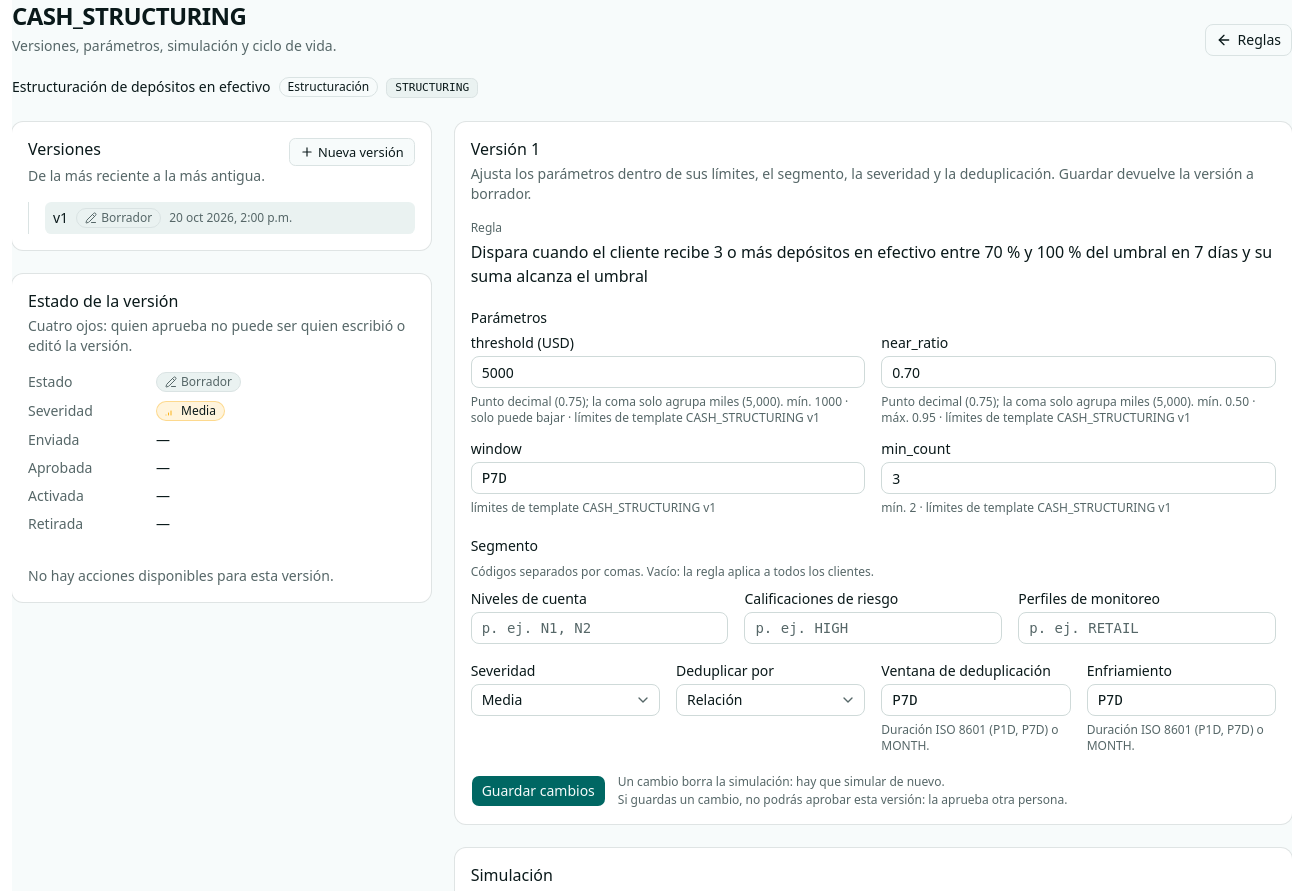
Test: RulePage › a save the server finds unchanged leaves nothing unsaved (Niveles de cuenta typed as "")
Type "n1" into the field labelled "Niveles de cuenta". click: (600, 628)
box: [471, 612, 728, 644]
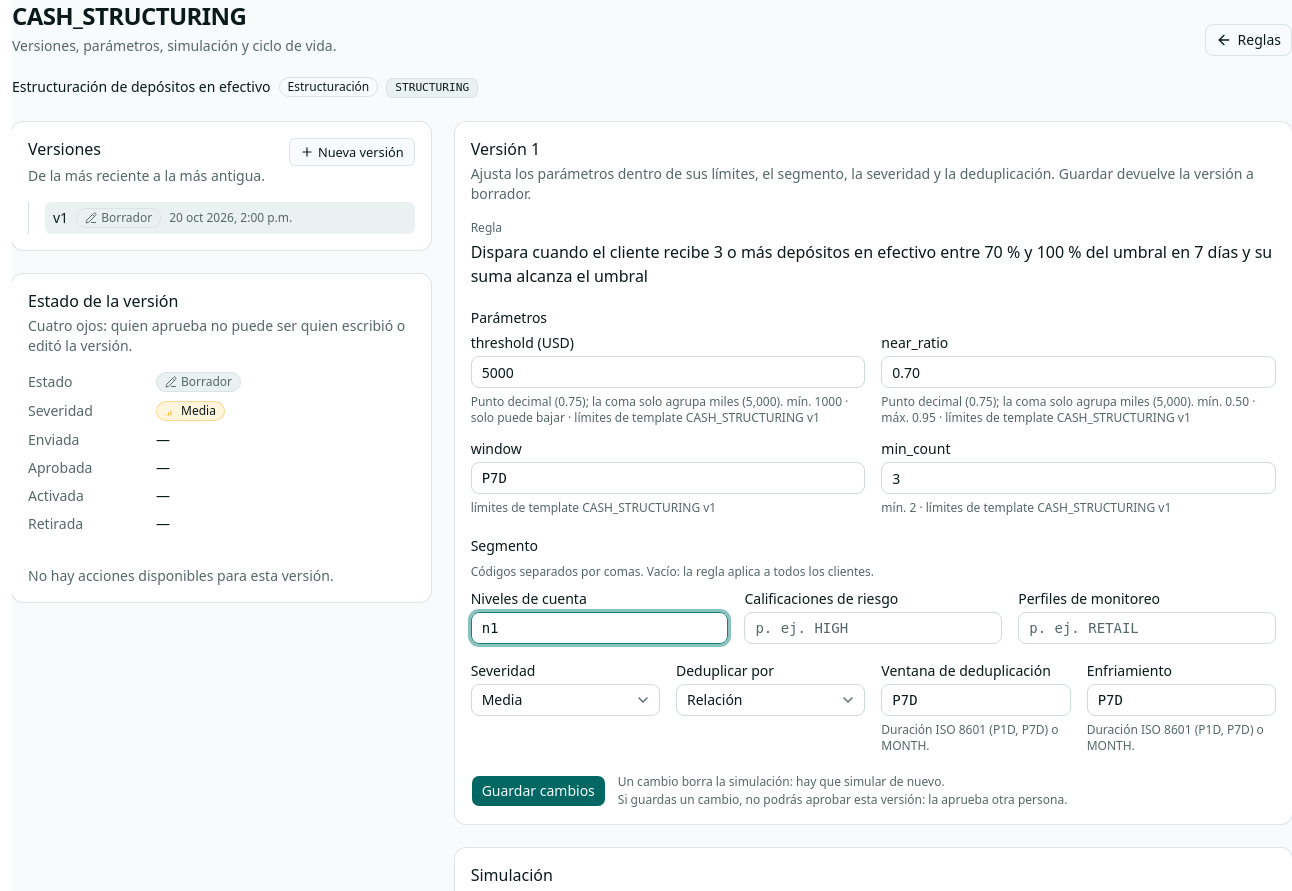
Click the button "Guardar cambios". click: (538, 791)
box: [471, 775, 606, 807]
(page scrolled)
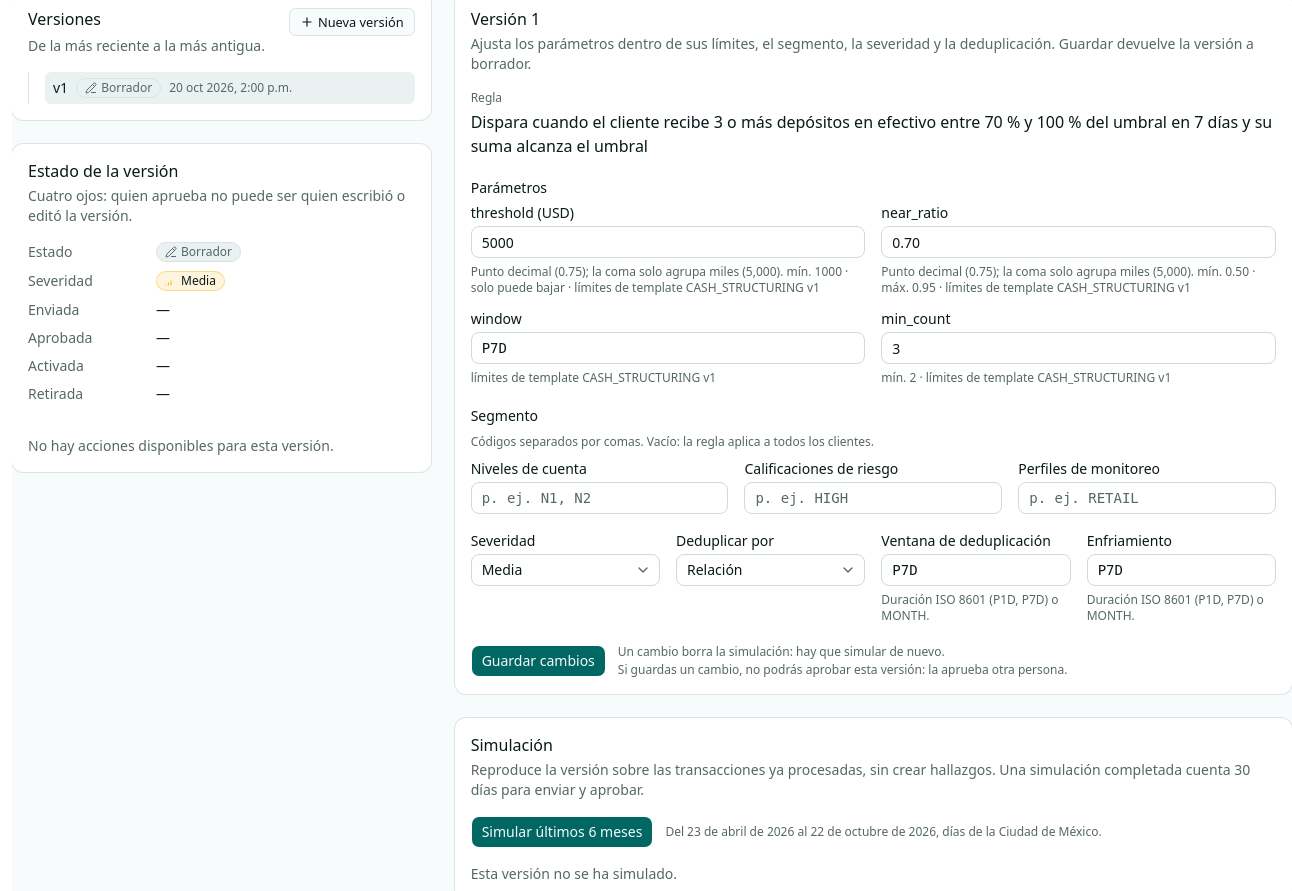
Expected: the button "Simular últimos 6 meses" is enabled, [471, 816, 653, 848]
